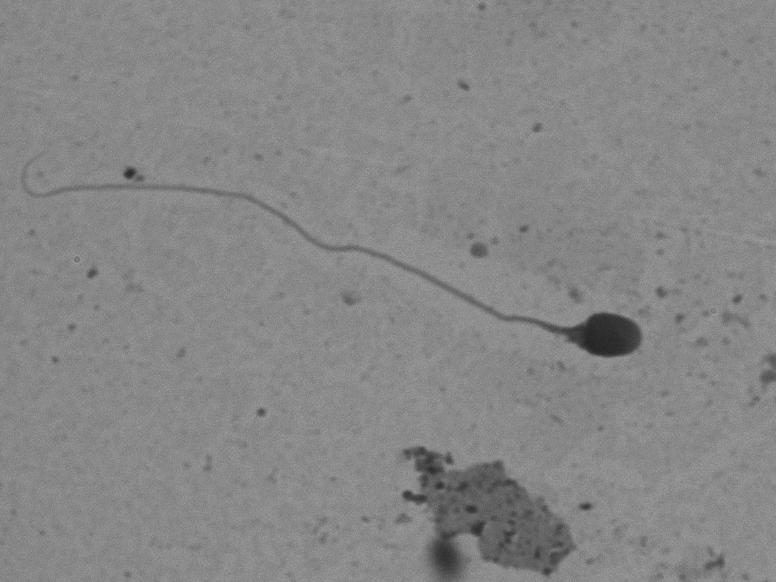Abnormal: (4, 110, 658, 385)
